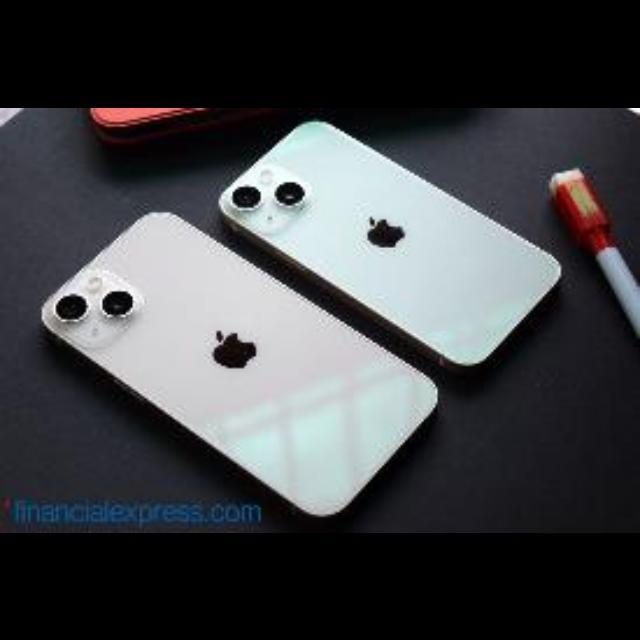Phone: (31, 212, 435, 514), (222, 107, 570, 335)
